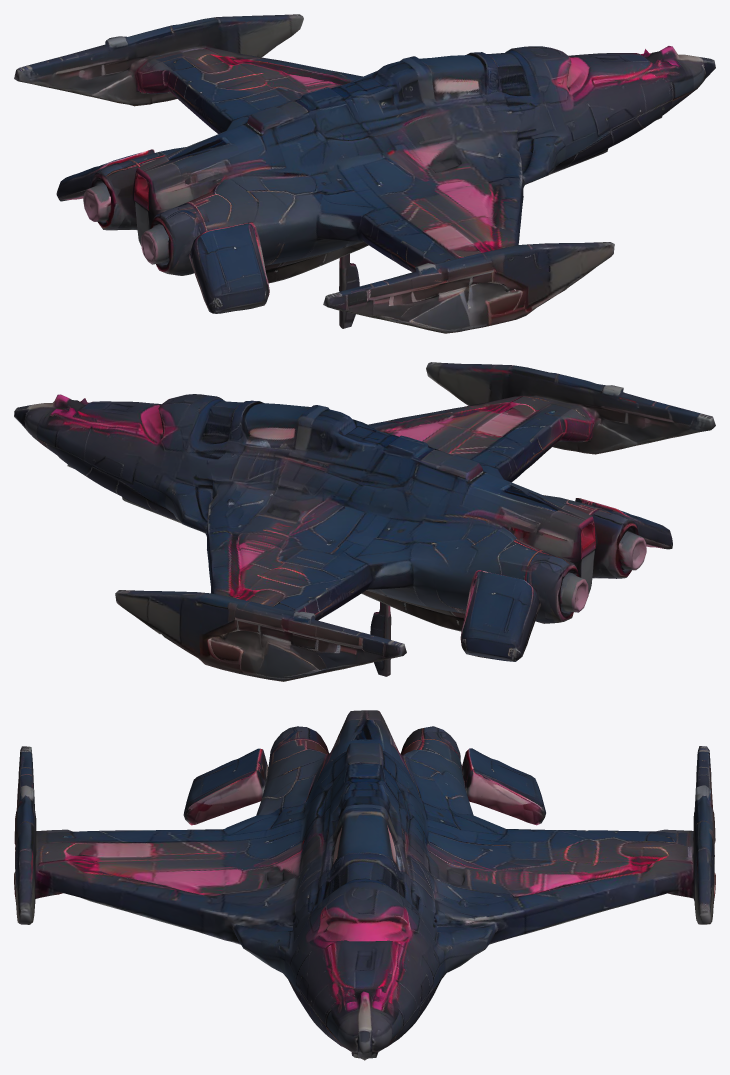
The model's file is player.glb.
3 views of the same model, one above another, from view 1: azimuth 30°, elevation 25°; view 2: azimuth 150°, elevation 25°; view 3: azimuth 270°, elevation 25° (orthographic). The views are drawn at different scales.
Parts seen in each view (by area): view 1: tripo_node_bc12076f-a0b8-4917-a692-50cac411c949; view 2: tripo_node_bc12076f-a0b8-4917-a692-50cac411c949; view 3: tripo_node_bc12076f-a0b8-4917-a692-50cac411c949.
Boxes of the visible parts, x1,y1,x2,y2 form: tripo_node_bc12076f-a0b8-4917-a692-50cac411c949: (14, 14, 715, 333); tripo_node_bc12076f-a0b8-4917-a692-50cac411c949: (14, 362, 715, 681); tripo_node_bc12076f-a0b8-4917-a692-50cac411c949: (14, 710, 715, 1060).
Bounding box in the file's own units: 1 × 0.3979 × 0.9333.
Materials: 1 (1 with a texture image).
